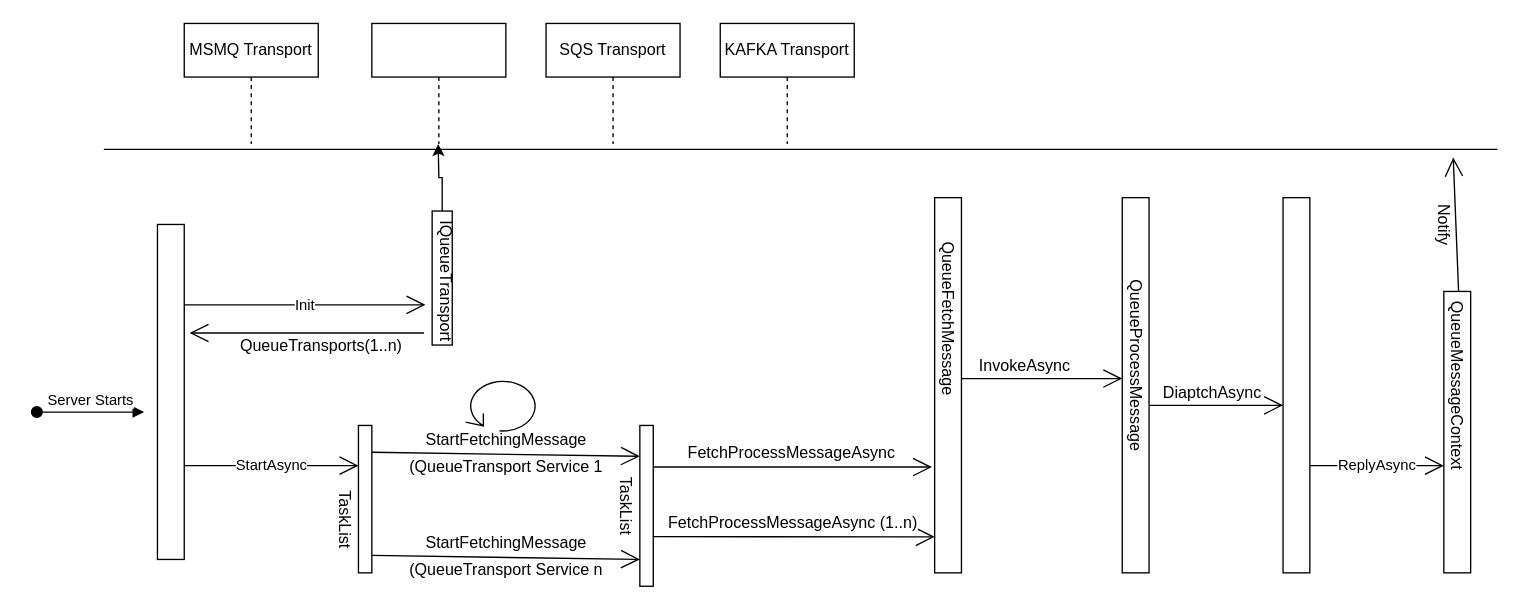
Some shapes in this 1521 by 610 pixel diagram are drawn without their labels. Here are the shapes that lost their labels. From the top down, the box of each, then its label:
(371, 22, 506, 144): RabbitMQ Transport
(156, 223, 184, 559): QueuePollingService
(464, 377, 538, 432): In Loop
(1282, 196, 1310, 573): ServiceDispatcher
